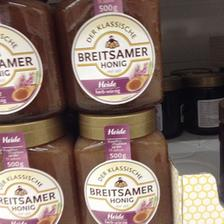Honig: (57, 0, 169, 110), (70, 112, 176, 224), (1, 122, 77, 223)
